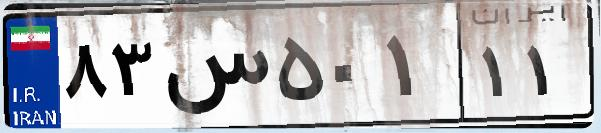0: (330, 28, 385, 110)
1: (385, 28, 445, 110), (475, 38, 525, 113), (525, 38, 570, 115)
3: (110, 28, 158, 98)
5: (270, 28, 330, 110)
8: (57, 26, 110, 100)
س: (158, 20, 270, 120)
